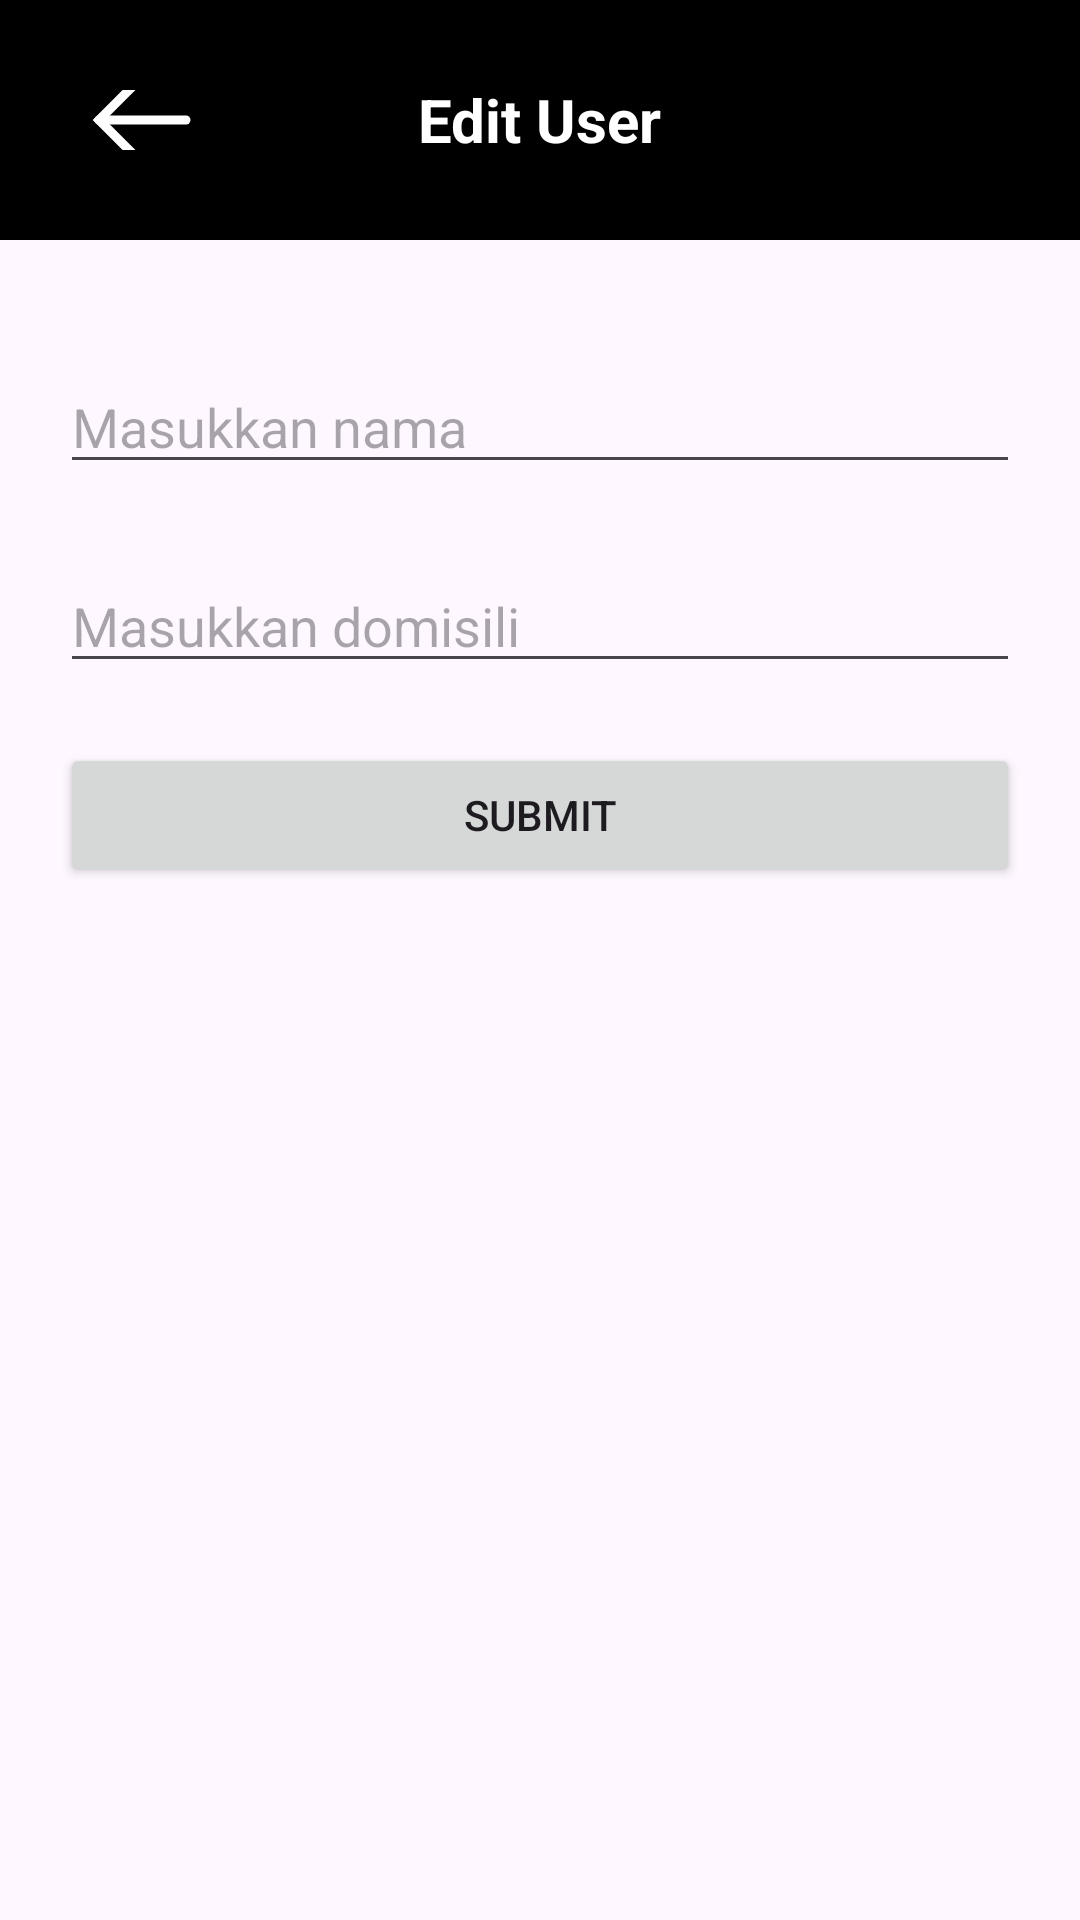

Screen size 1080w x 1920h. Icon name, then its center in pixels as (x=x, y=y):
back: (x=142, y=120)
